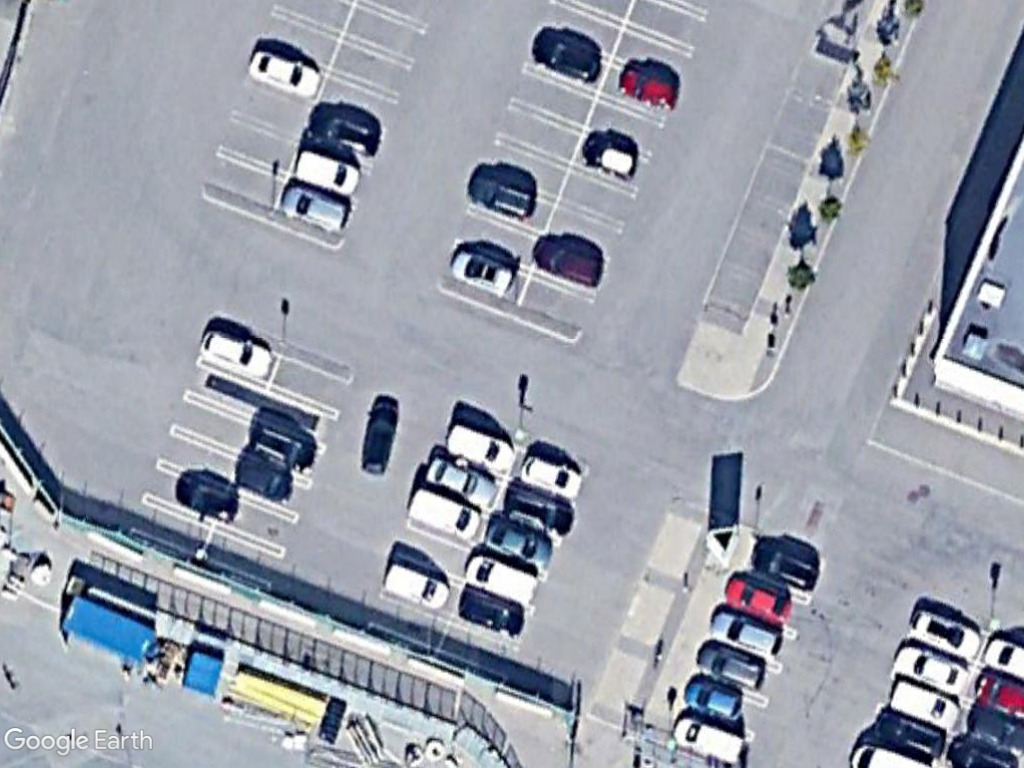car: (420, 452, 504, 512), (497, 482, 580, 541), (887, 640, 972, 697), (196, 326, 282, 382), (529, 27, 609, 87), (906, 604, 986, 664), (691, 636, 771, 694), (718, 573, 798, 630), (529, 236, 609, 292), (240, 48, 326, 100), (463, 167, 542, 223), (747, 540, 824, 596), (443, 246, 522, 299), (276, 179, 354, 230), (711, 608, 787, 660), (483, 514, 553, 570), (286, 149, 364, 199), (613, 63, 688, 113), (678, 673, 750, 725), (514, 451, 588, 501), (357, 396, 401, 480)
van: (460, 548, 546, 613), (405, 482, 484, 543), (440, 418, 520, 478), (668, 710, 752, 765), (884, 670, 962, 729), (378, 560, 454, 614)
